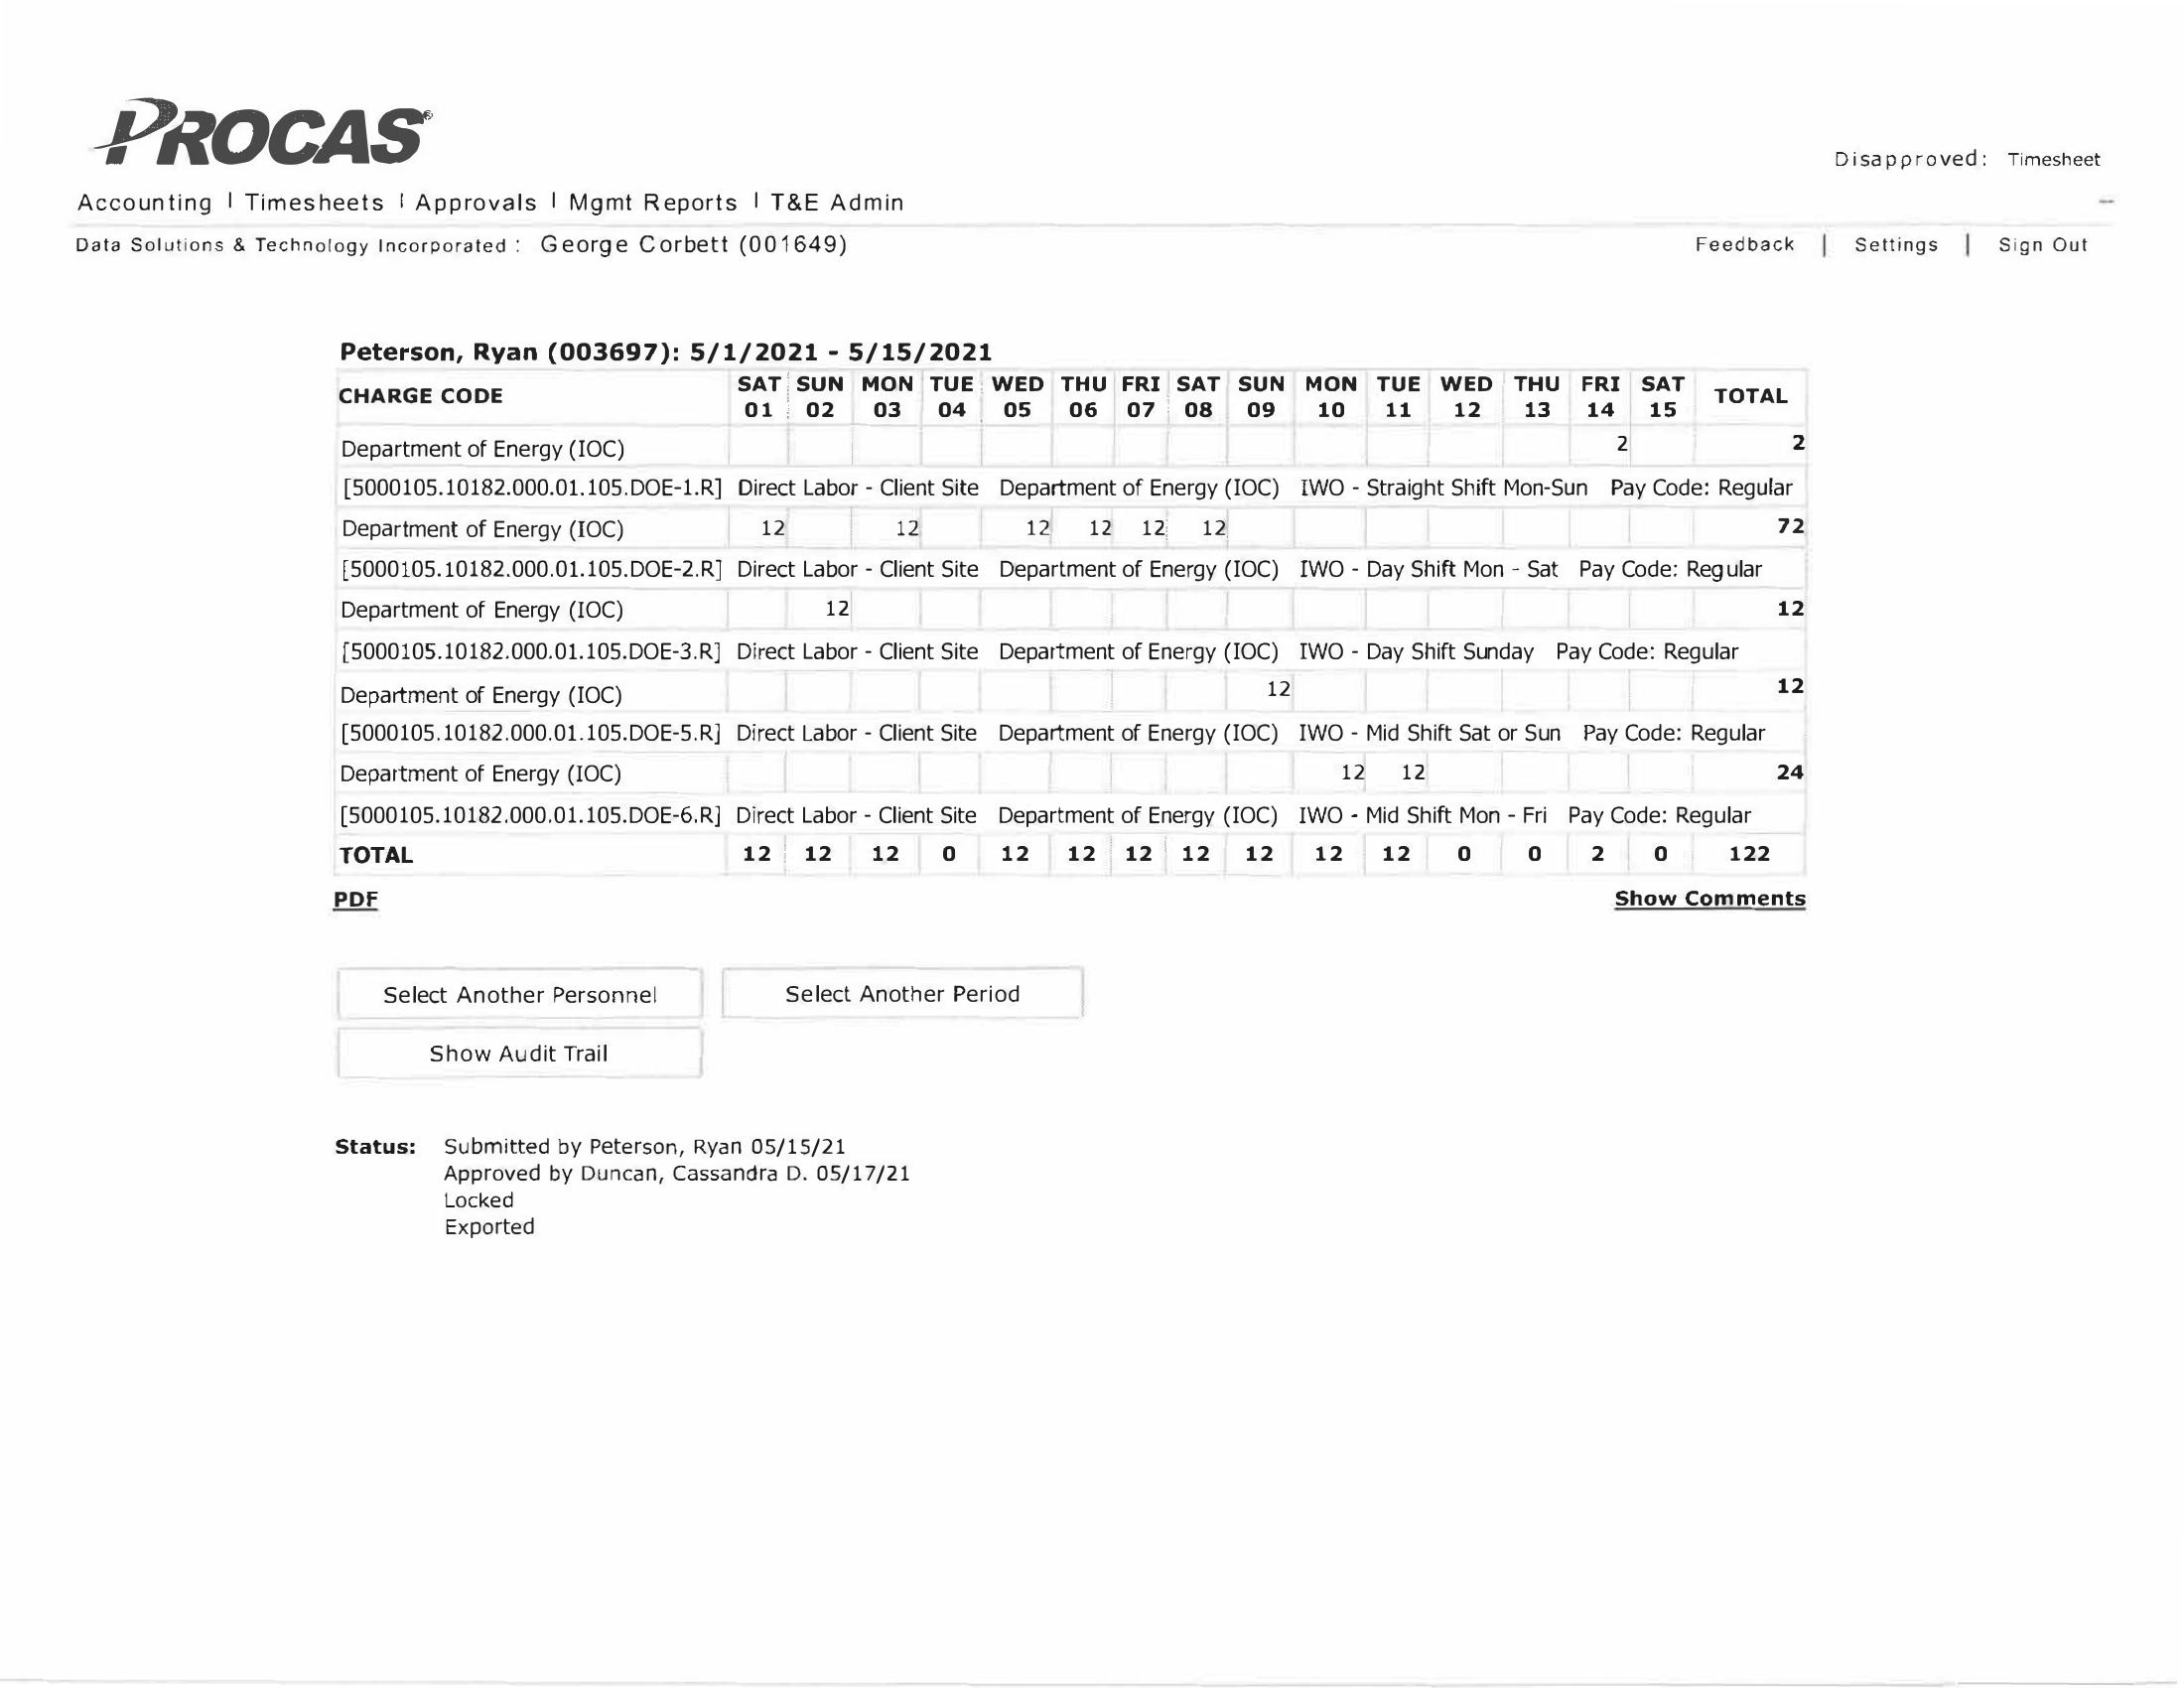table: (324, 367, 1829, 879)
